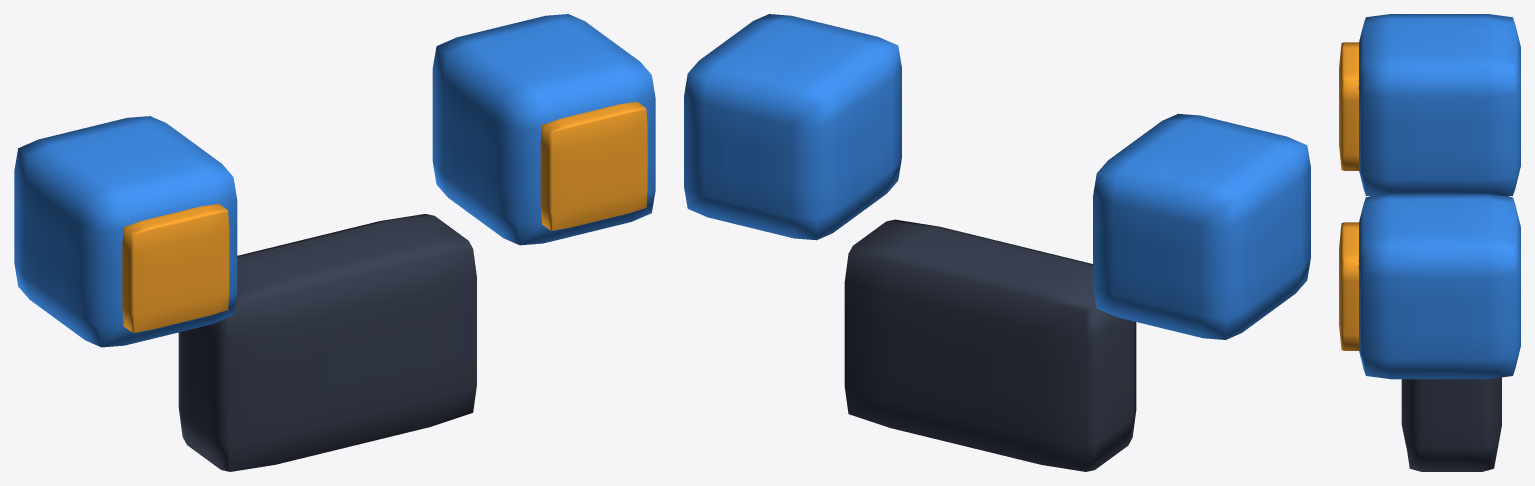
File: core_pods.obj
3 views of the same model, side by side, from view 1: azimuth 30°, elevation 25°; view 2: azimuth 150°, elevation 25°; view 3: azimuth 270°, elevation 25° (orthographic). The views are drawn at different scales.
Bounding box in the file's own units: 0.92 × 0.52 × 0.29.
